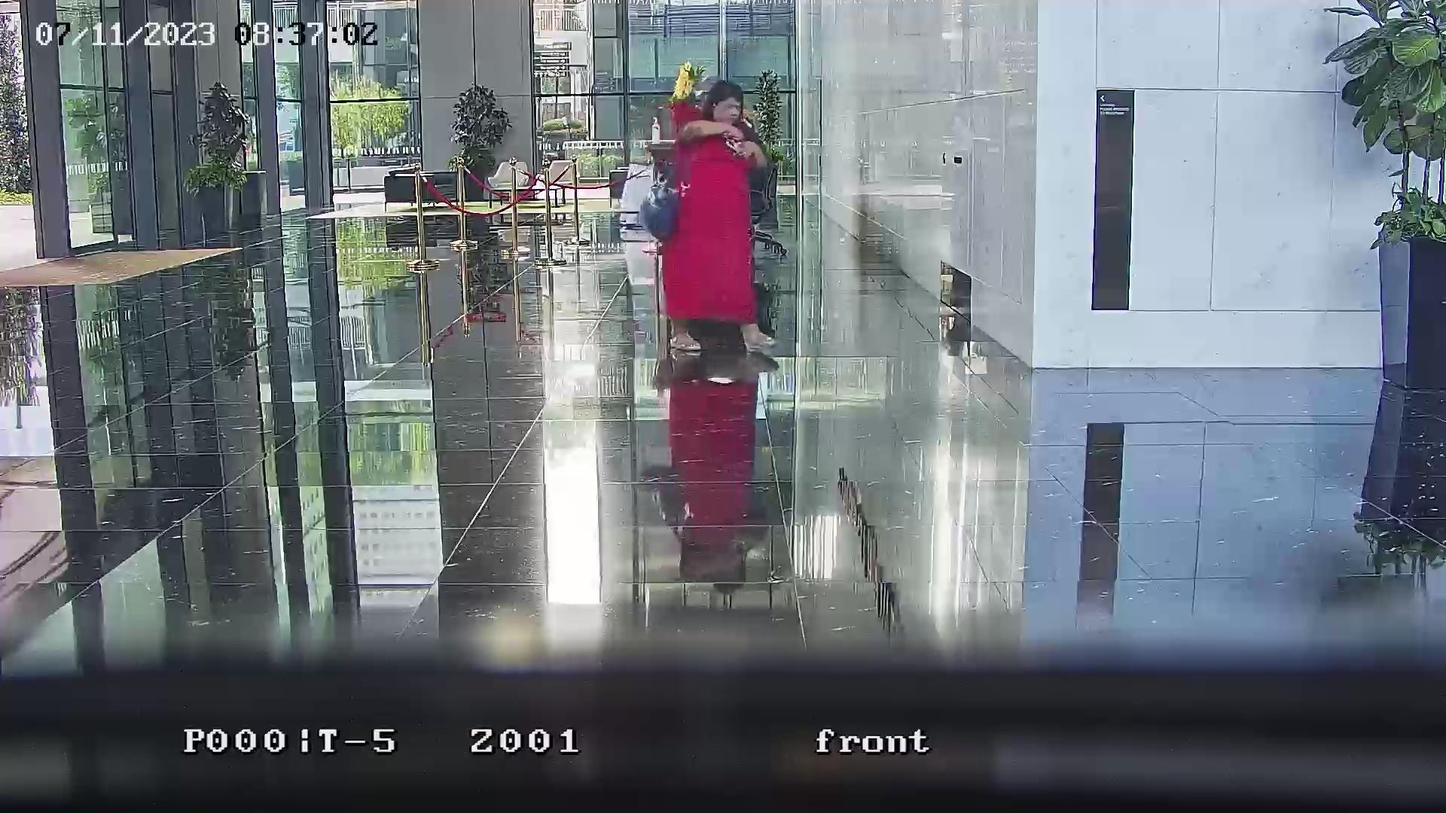person: (657, 78, 776, 361)
